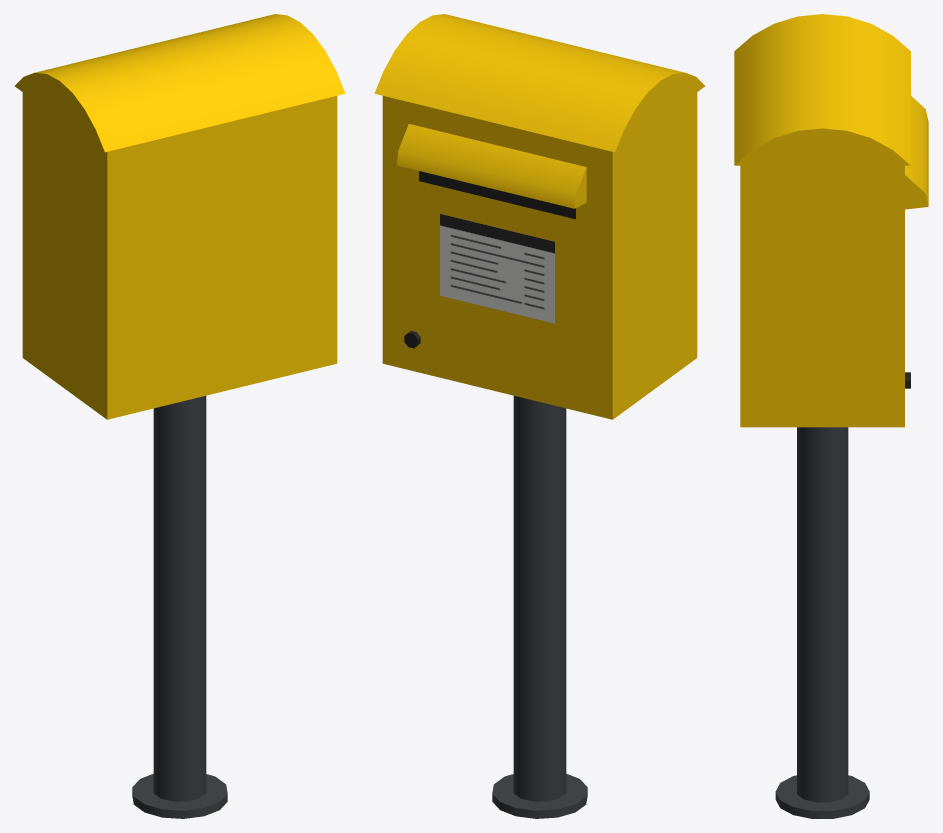
The model's file is post_box.glb.
3 views of the same model, side by side, from view 1: azimuth 30°, elevation 25°; view 2: azimuth 150°, elevation 25°; view 3: azimuth 270°, elevation 25° (orthographic). The views are drawn at different scales.
Parts seen in each view (by area): view 1: post_box; view 2: post_box; view 3: post_box.
Part boxes in pixels (bbox=[...]): post_box: bbox=[15, 14, 345, 818]; post_box: bbox=[374, 14, 704, 818]; post_box: bbox=[734, 14, 928, 818].
Size of the model in its own units: 0.46 by 1.37 by 0.33.
4 materials, 1 textured.
